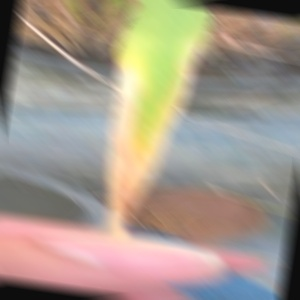Leaf_Blast: (103, 15, 188, 232)
